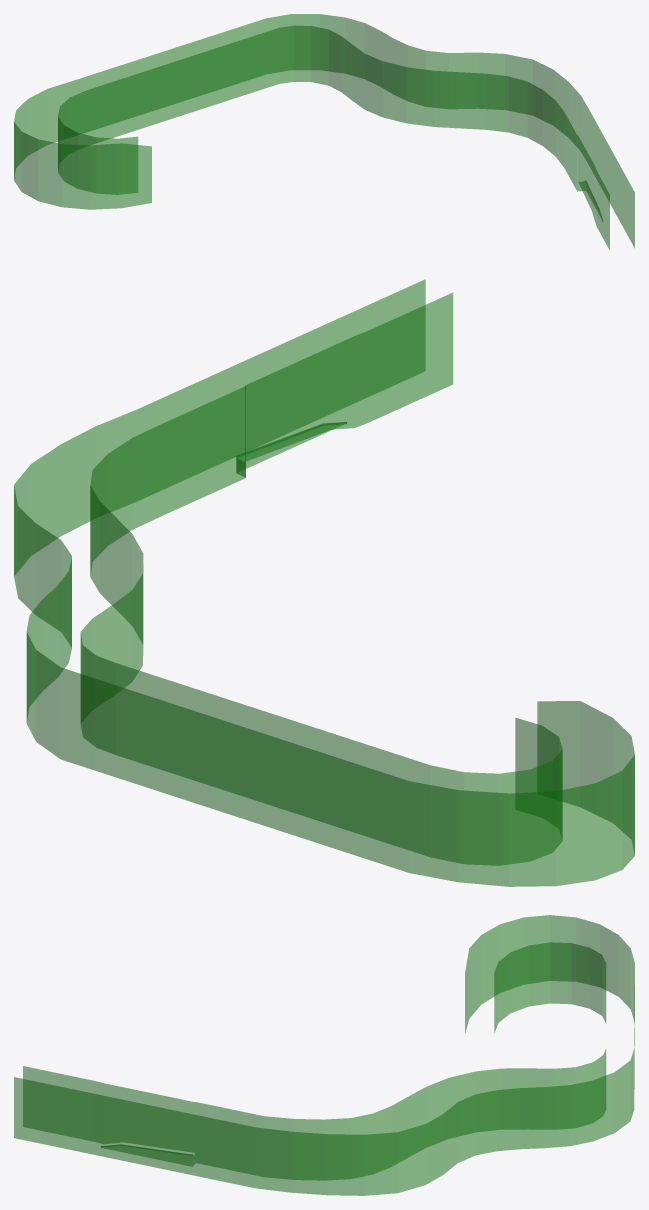
The model's file is wall3.obj.
3 views of the same model, one above another, from view 1: azimuth 30°, elevation 25°; view 2: azimuth 150°, elevation 25°; view 3: azimuth 270°, elevation 25° (orthographic). The views are drawn at different scales.
Bounding box in the file's own units: 294 × 59.78 × 326.
